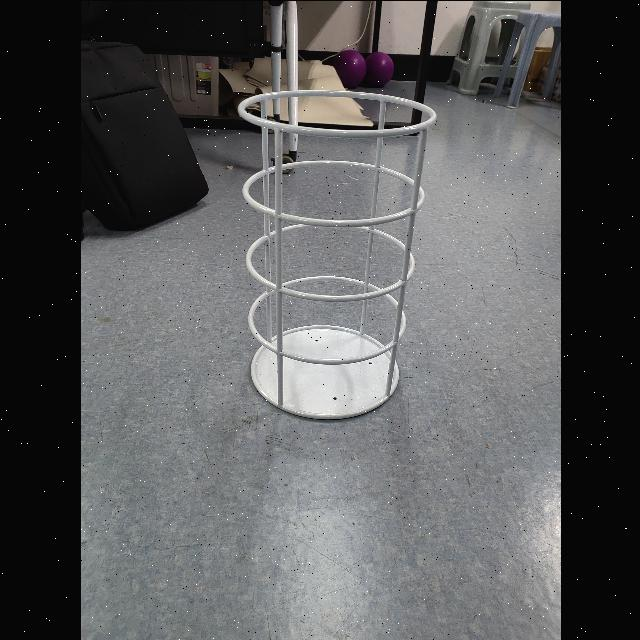S: (231, 84, 439, 422)
